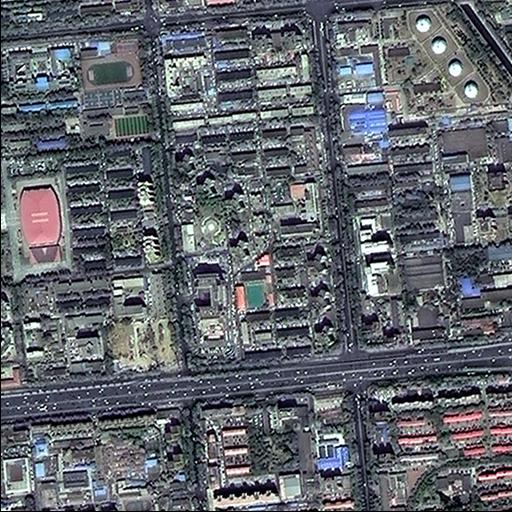school: (7, 31, 151, 111), (75, 102, 157, 143)
